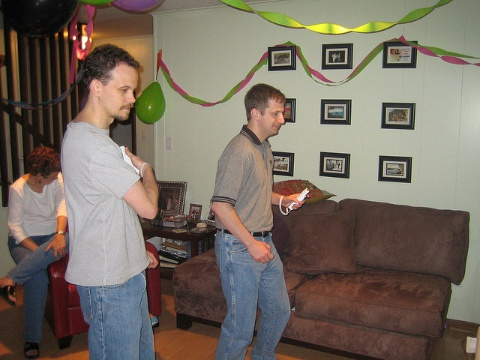hand: (245, 239, 274, 265), (44, 234, 70, 260)
